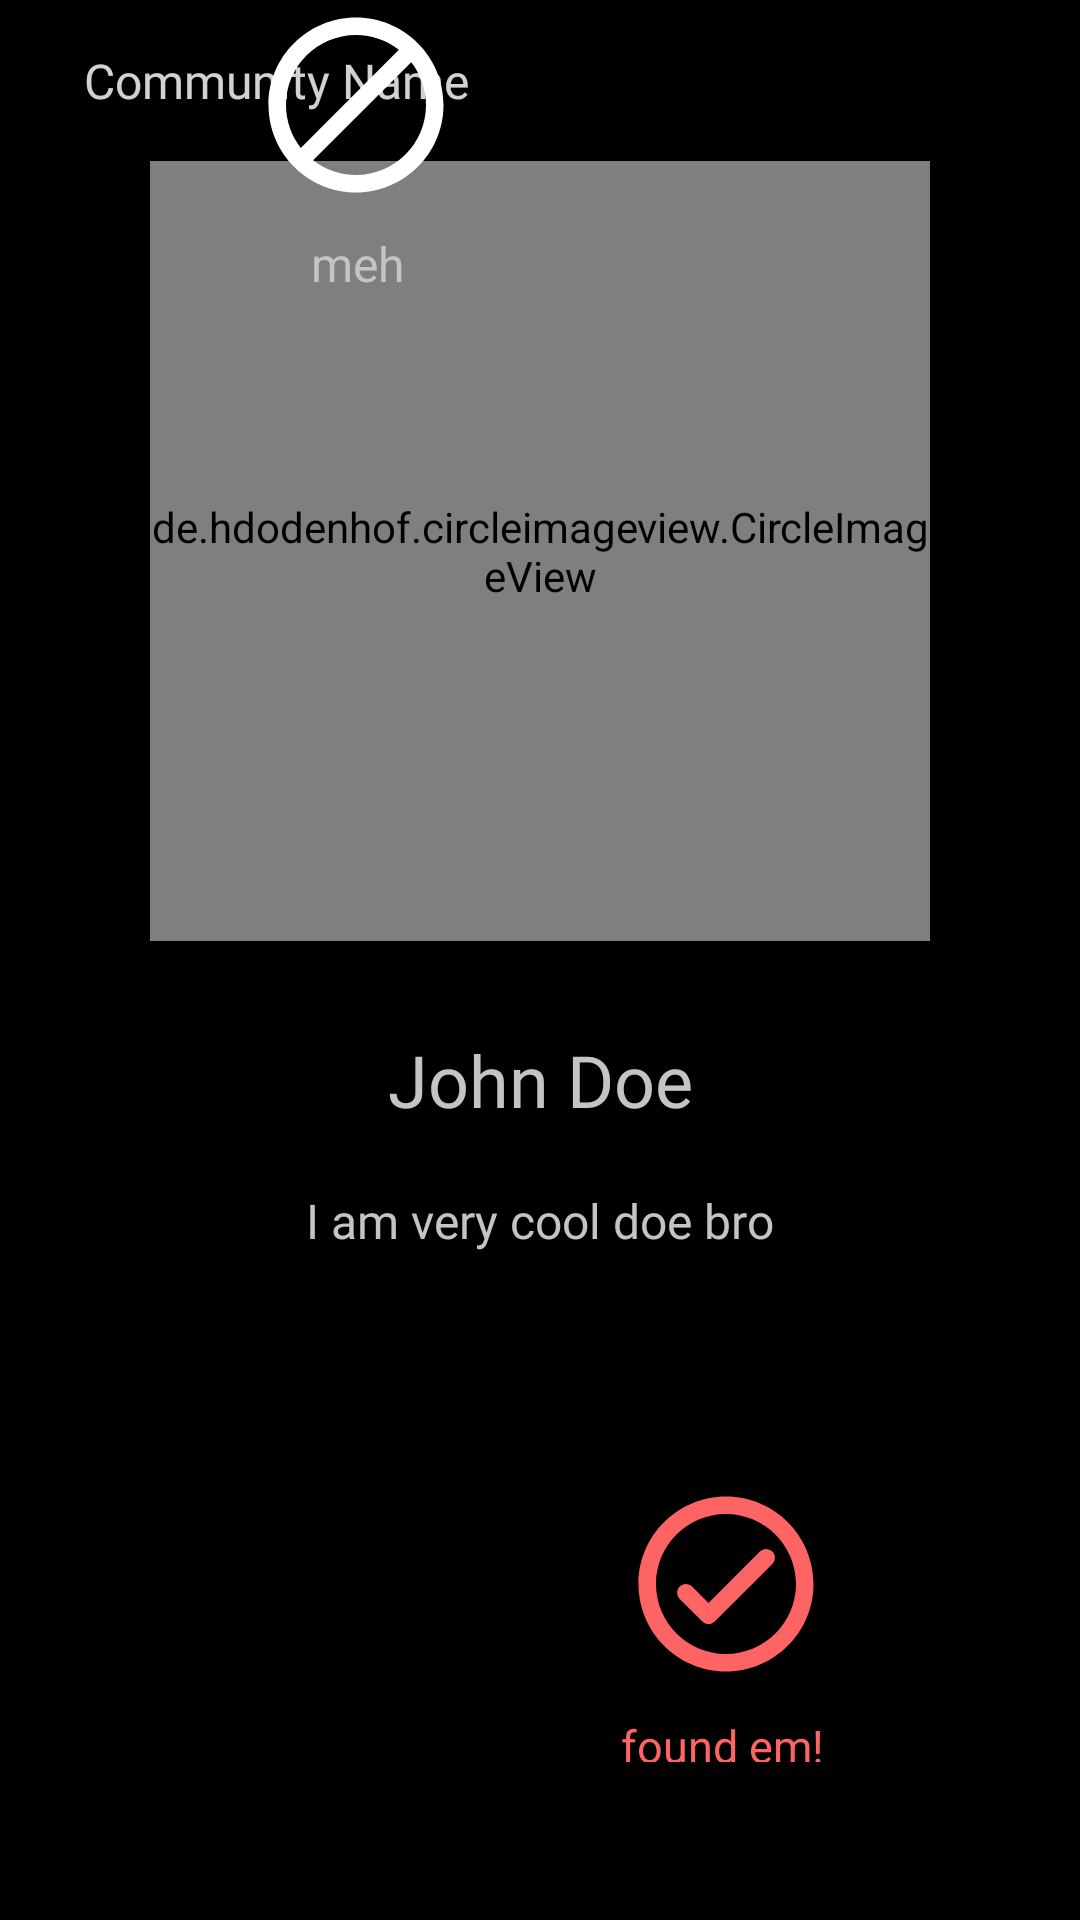

Named icons in this screenshot (1080×1920) and their centers, [x,y]:
match checkmark: [726,1584]
match deny: [355,105]
